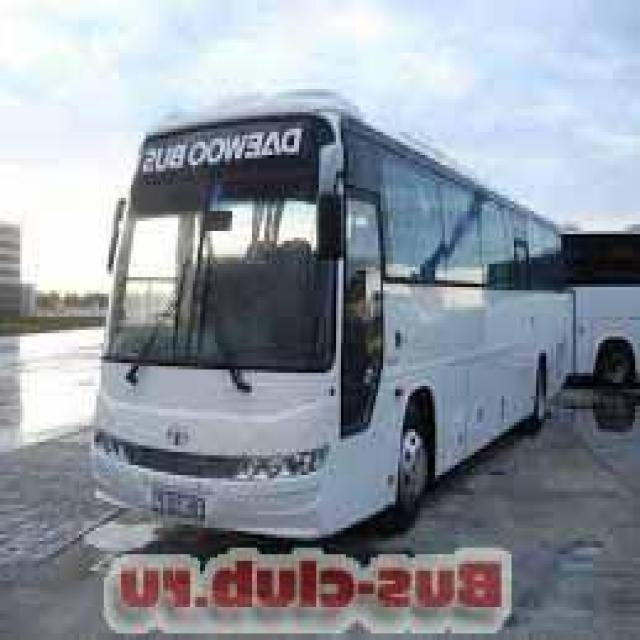Bus: (86, 83, 568, 541)
